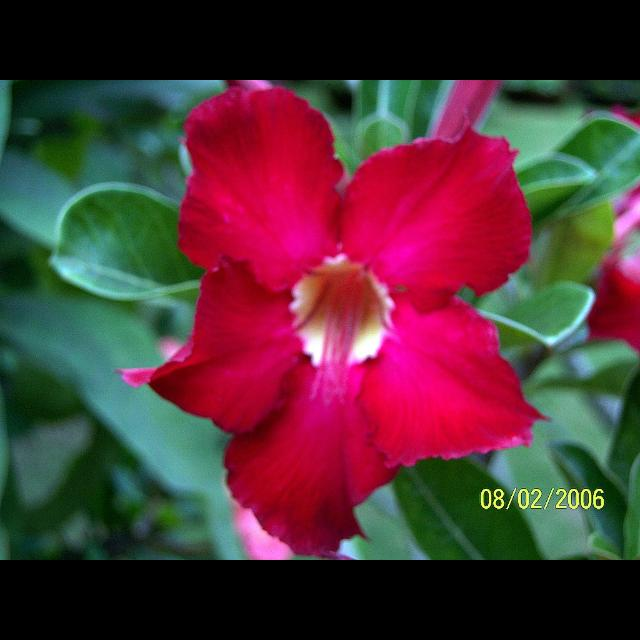Flower: (124, 92, 542, 536), (568, 104, 640, 360), (240, 503, 360, 559), (421, 80, 507, 142)
